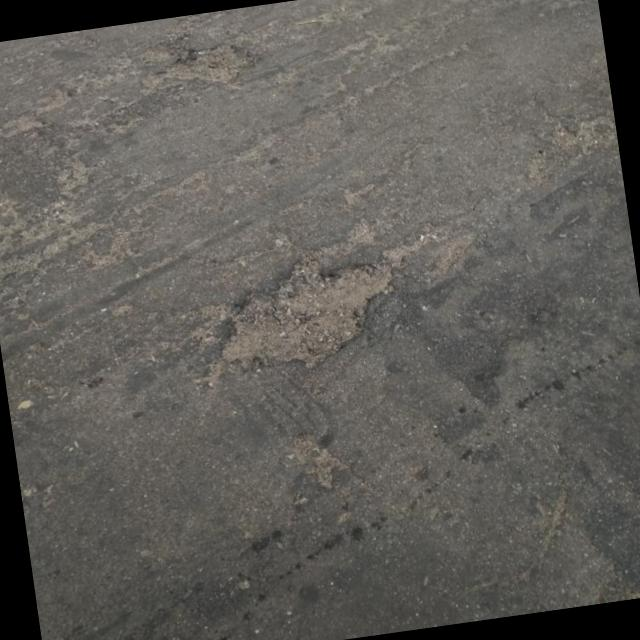Lubang: (223, 254, 392, 365)
